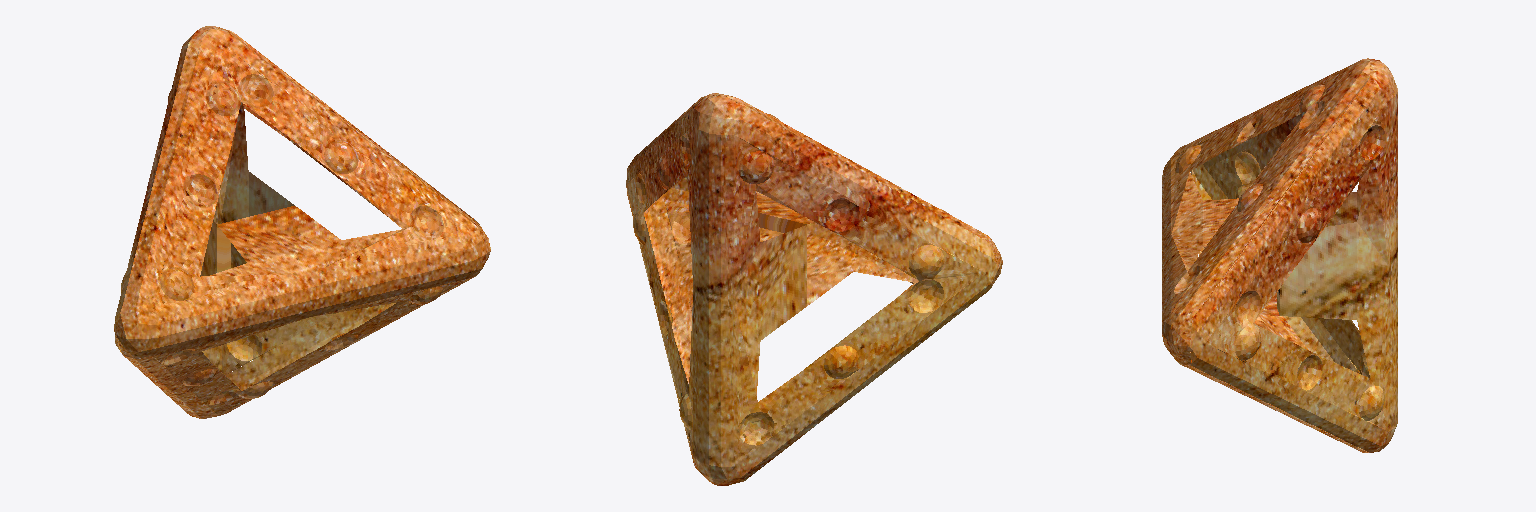
3 views of the same model, side by side, from view 1: azimuth 30°, elevation 25°; view 2: azimuth 150°, elevation 25°; view 3: azimuth 270°, elevation 25° (orthographic).
Visible parts, largest first — view 1: BumpSurfStamp.001; view 2: BumpSurfStamp.001; view 3: BumpSurfStamp.001.
Boxes of the visible parts, box(x1,y1,x2,y2) form: BumpSurfStamp.001: box(114, 26, 490, 418); BumpSurfStamp.001: box(626, 93, 1002, 485); BumpSurfStamp.001: box(1162, 58, 1397, 452).
Size of the model in its own units: 3.24 by 3.24 by 1.79.
Materials: 1 (1 with a texture image).